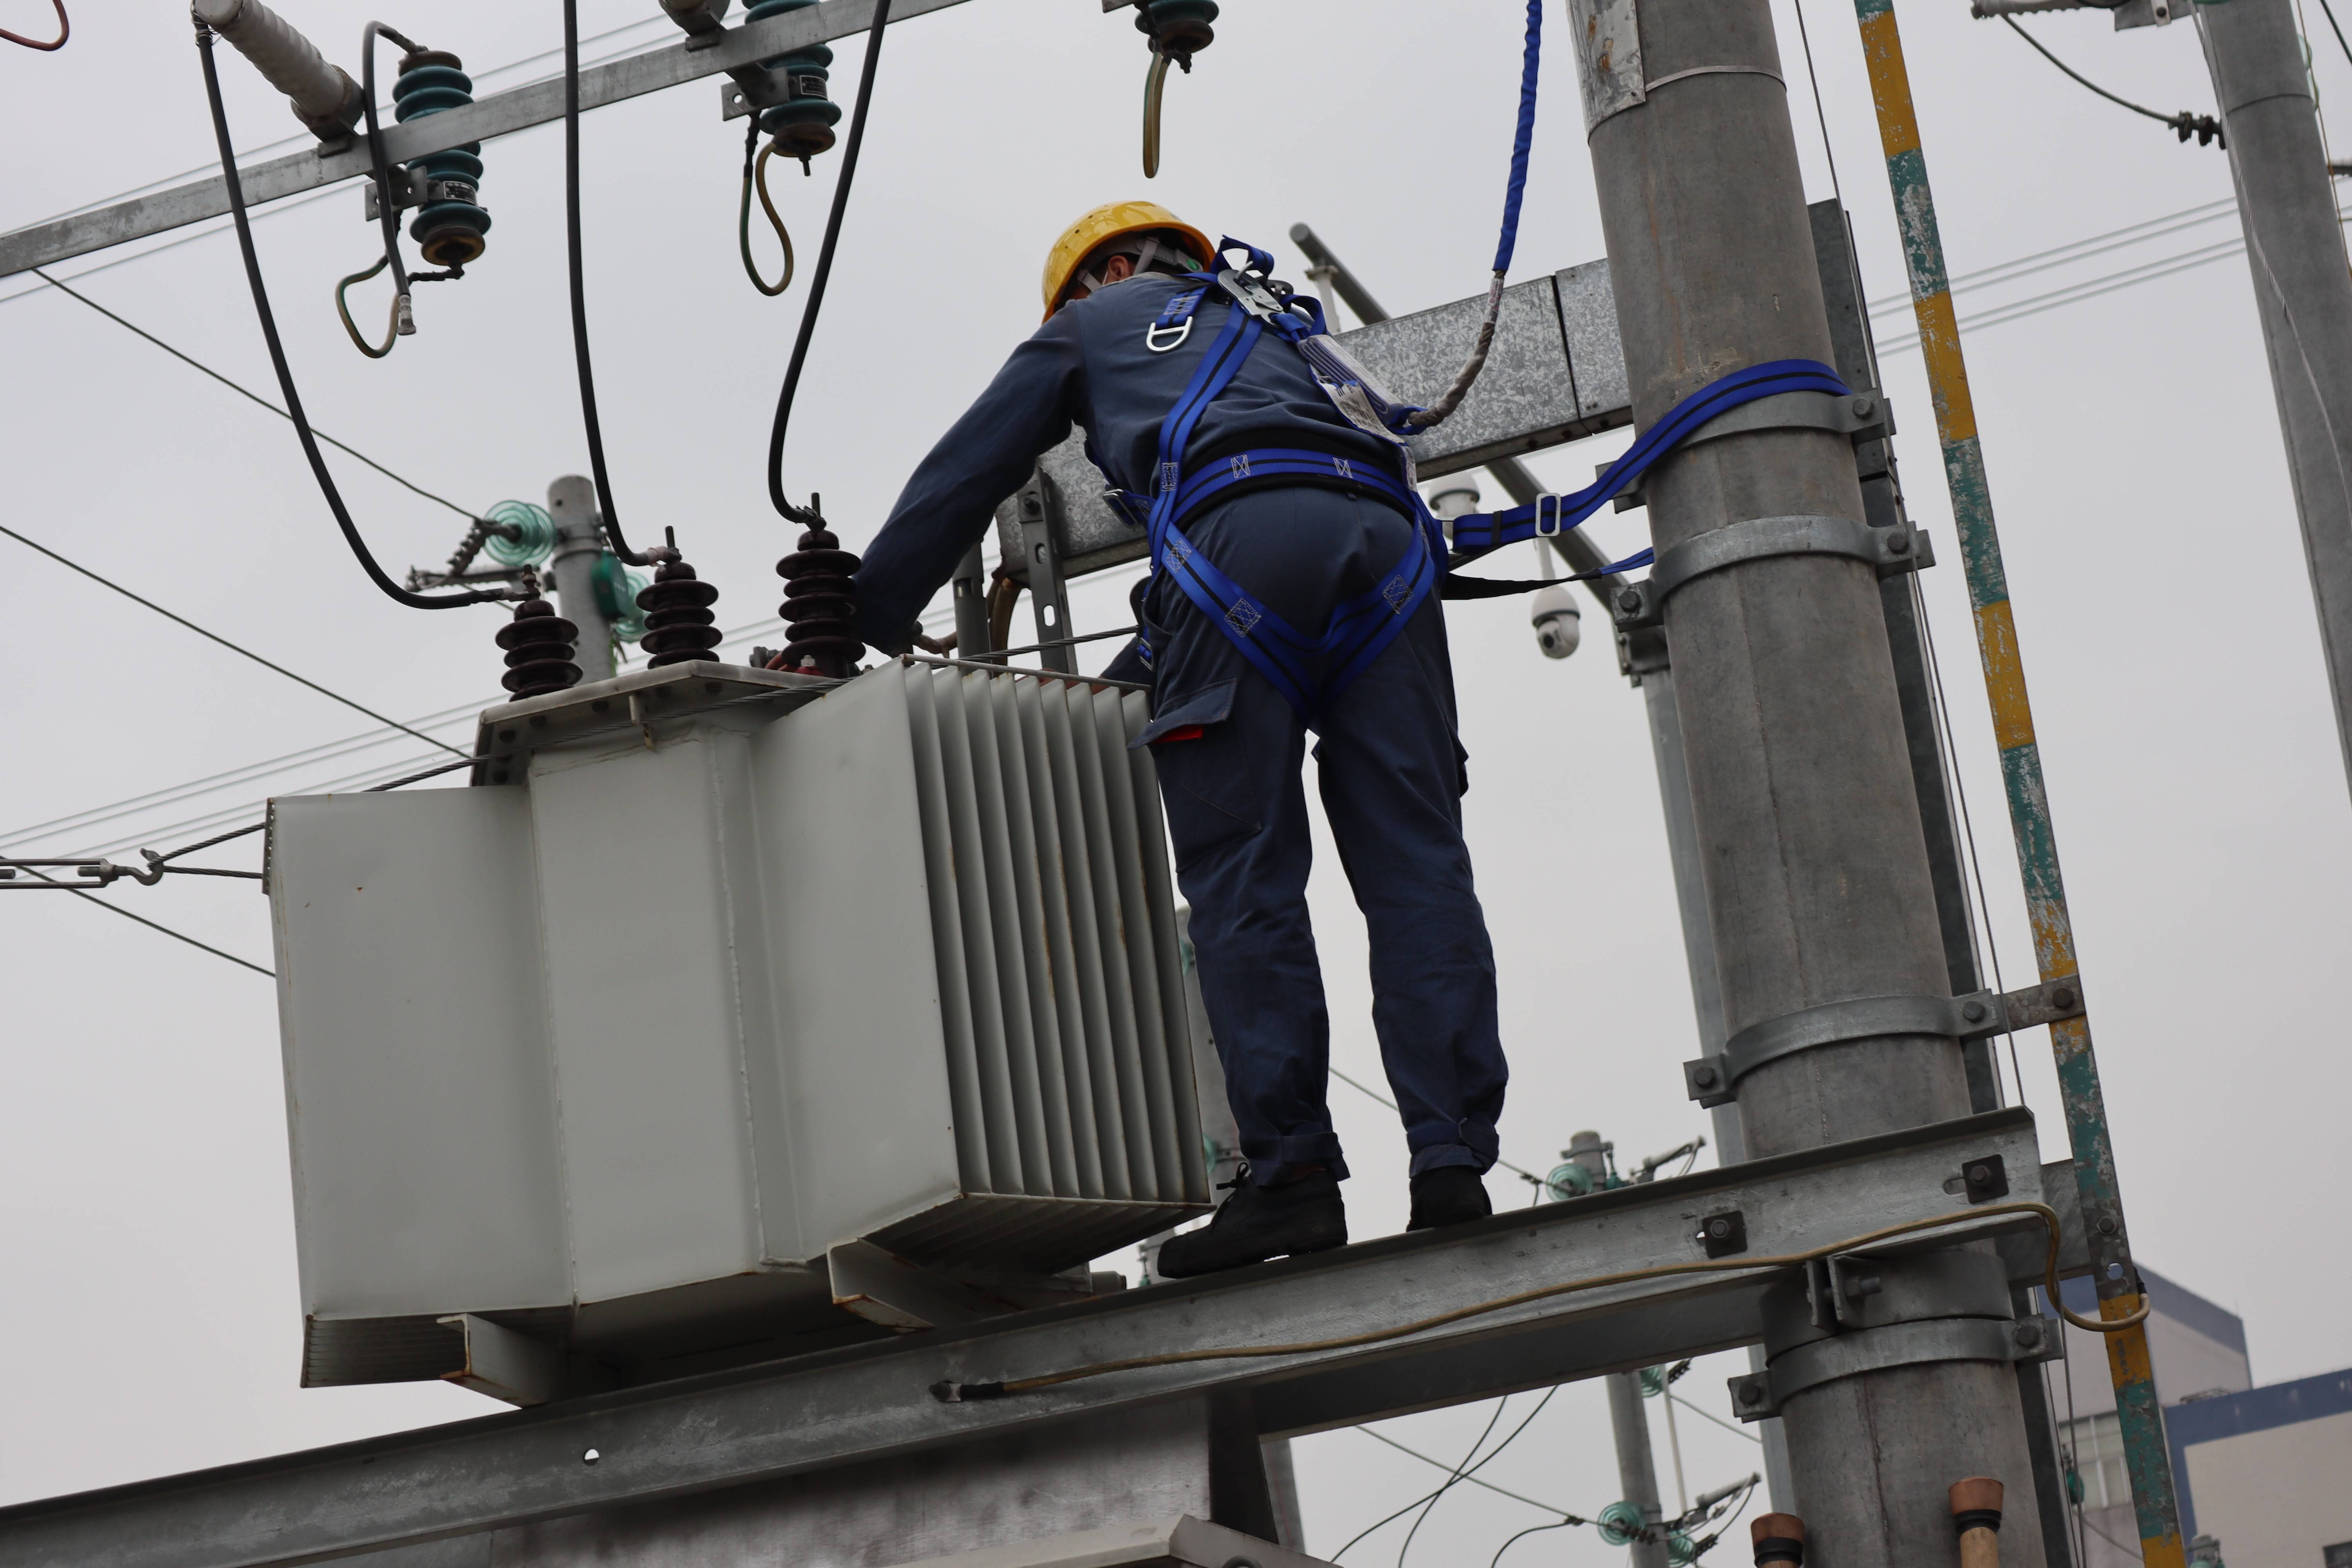downsuit: (1115, 520, 1524, 1164)
upsuit: (847, 264, 1423, 495)
